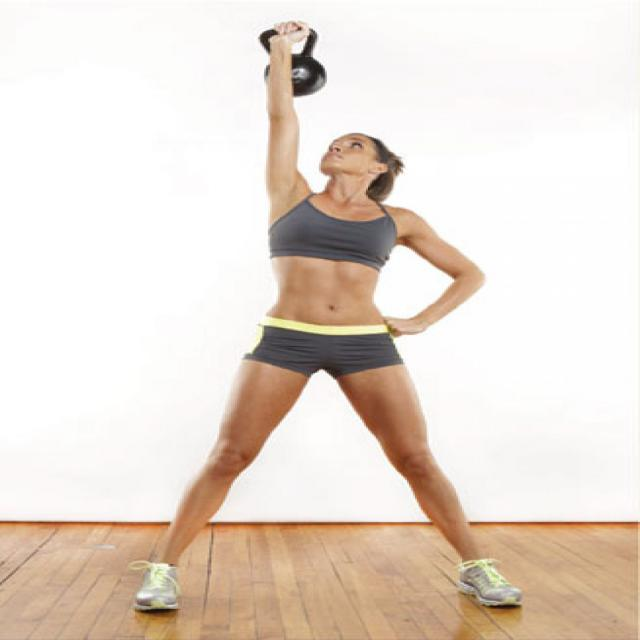Kettlebell: (241, 8, 341, 104)
